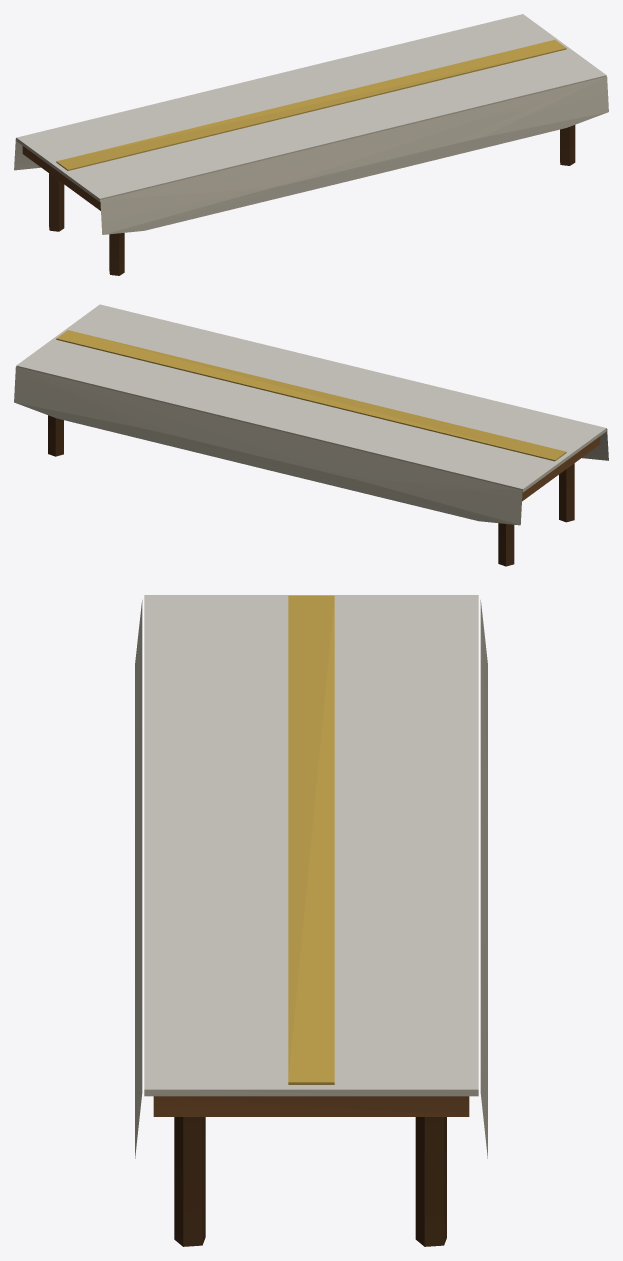
File: feasttable.glb
3 views of the same model, one above another, from view 1: azimuth 30°, elevation 25°; view 2: azimuth 150°, elevation 25°; view 3: azimuth 270°, elevation 25° (orthographic). The views are drawn at different scales.
Visible parts, largest first — view 1: base; view 2: base; view 3: base.
Part boxes in pixels (left/top/right/bottom): base: left=14, top=14, right=608, bottom=275; base: left=14, top=304, right=608, bottom=566; base: left=135, top=595, right=487, bottom=1246.
Bounding box in the file's own units: 1.26 × 0.216 × 0.38.
